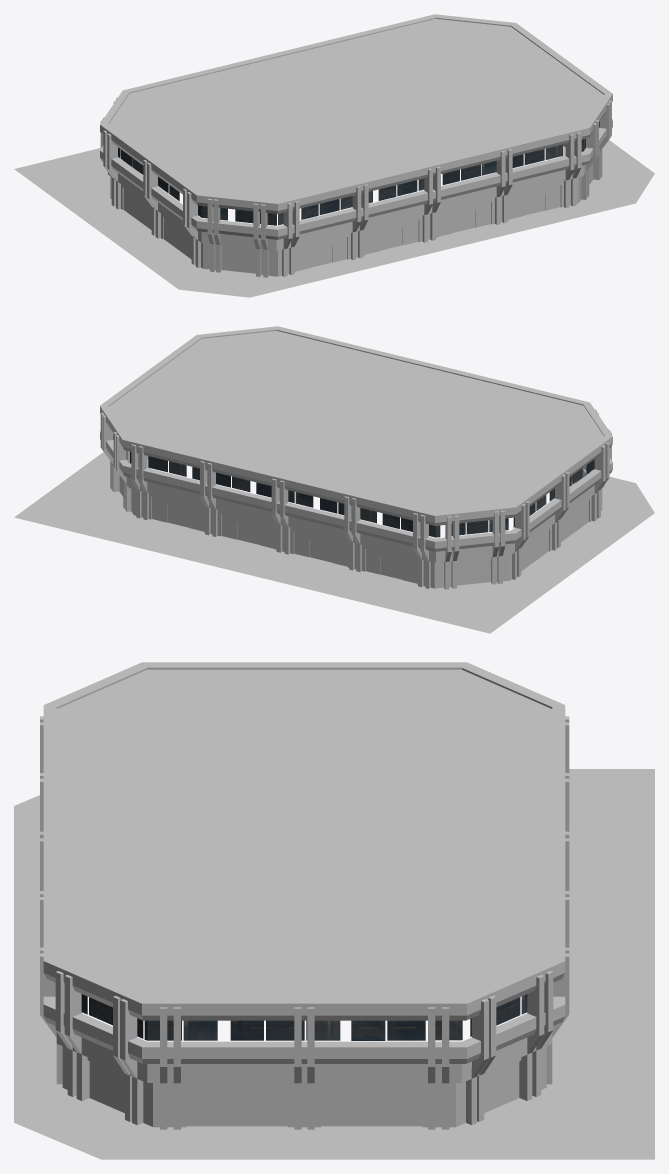
The picture shows the model from 3 angles, top to bottom: view 1: azimuth 30°, elevation 25°; view 2: azimuth 150°, elevation 25°; view 3: azimuth 270°, elevation 25°; orthographic projection. The views are drawn at different scales.
Visible parts, largest first — view 1: DC-08; view 2: DC-08; view 3: DC-08.
Boxes of the visible parts, x1=… form: DC-08: x1=14, y1=14, x2=654, y2=297; DC-08: x1=14, y1=326, x2=654, y2=633; DC-08: x1=14, y1=662, x2=654, y2=1159.
Size of what is drawn, in the model's own units: 72 by 11.29 by 49.95.
